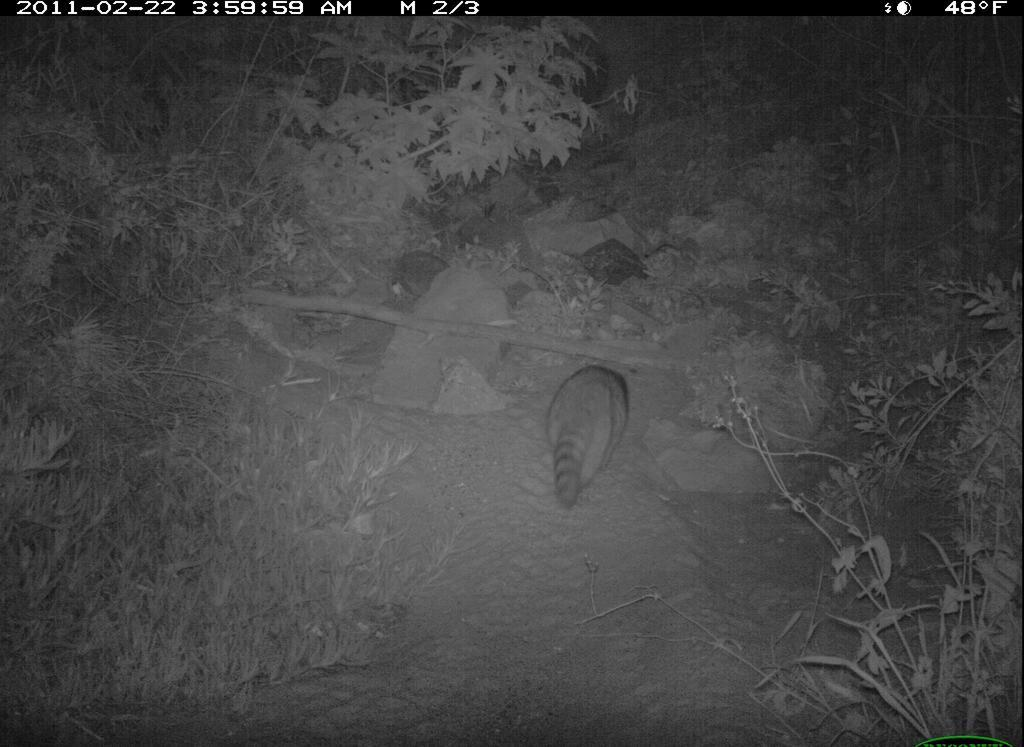raccoon: (536, 342, 634, 515)
